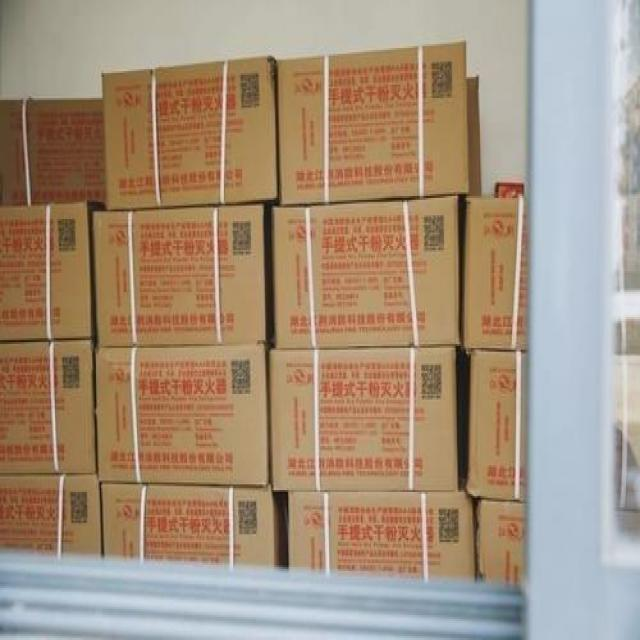box: (257, 333, 478, 504), (278, 32, 481, 213), (268, 188, 468, 352), (97, 58, 279, 214), (87, 201, 274, 351), (97, 344, 272, 480), (281, 474, 479, 590), (96, 466, 290, 570), (0, 205, 104, 352), (0, 87, 110, 214), (458, 184, 536, 356), (0, 344, 97, 478), (461, 345, 531, 502), (0, 467, 102, 561)
